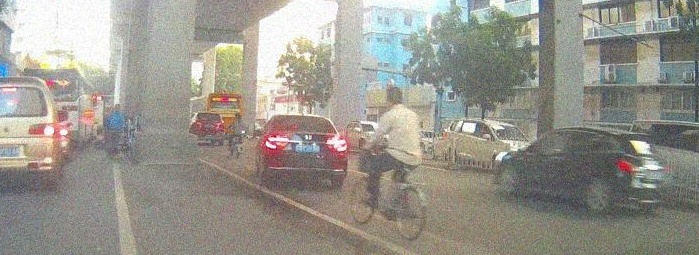L_light: (265, 138, 289, 150)
R_light: (326, 139, 348, 152)
T_light: (296, 117, 310, 119)
day-right: (261, 114, 349, 187)
